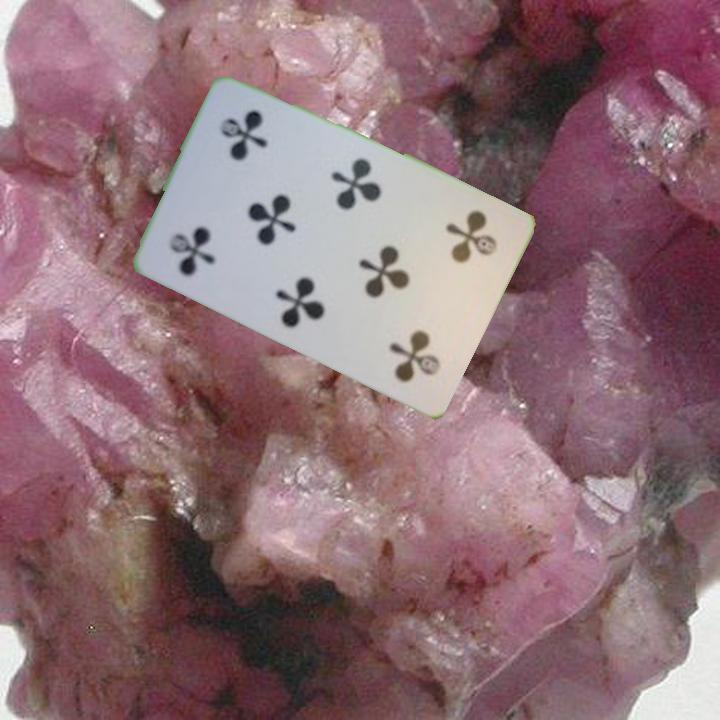c_8.png: (145, 169, 264, 295), (398, 189, 517, 315)
